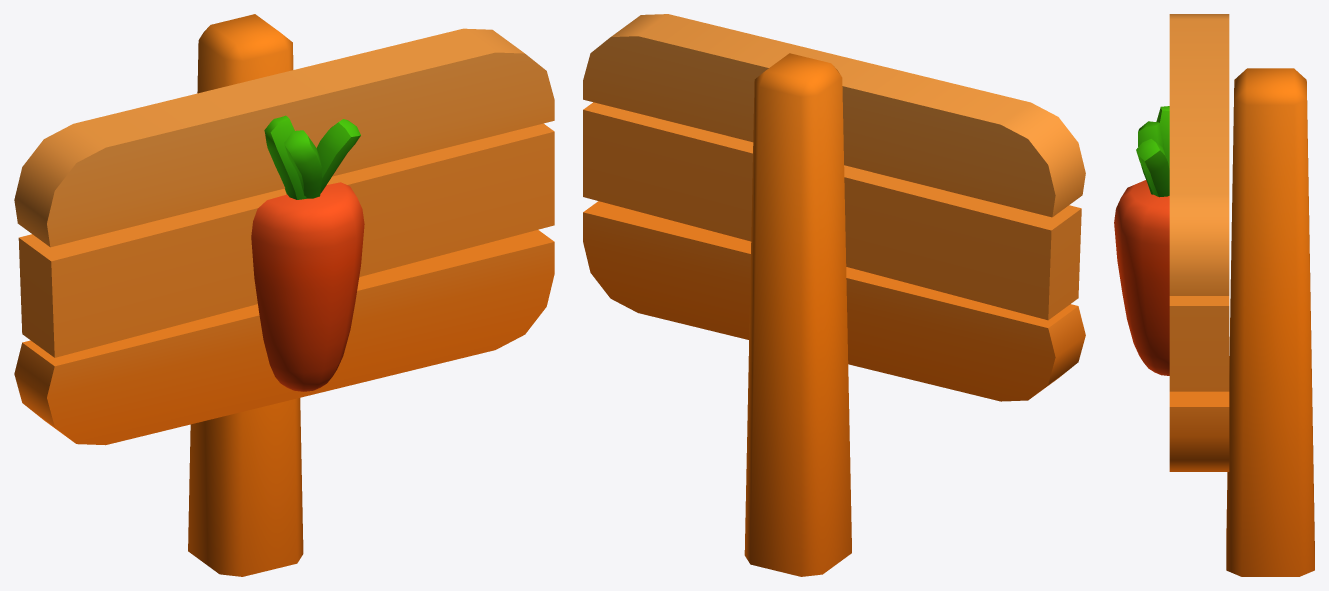
File: Farm_Crop_Sign_Carrot_01.glb
3 views of the same model, side by side, from view 1: azimuth 30°, elevation 25°; view 2: azimuth 150°, elevation 25°; view 3: azimuth 270°, elevation 25° (orthographic). The views are drawn at different scales.
Visible parts, largest first — view 1: Farm_Crop_Sign_Carrot_01; view 2: Farm_Crop_Sign_Carrot_01; view 3: Farm_Crop_Sign_Carrot_01.
Boxes of the visible parts, x1,y1,x2,y2 form: Farm_Crop_Sign_Carrot_01: [14, 14, 554, 576]; Farm_Crop_Sign_Carrot_01: [583, 14, 1085, 576]; Farm_Crop_Sign_Carrot_01: [1114, 14, 1314, 576].
Size of the model in its own units: 0.9011 by 0.888 by 0.3369.
1 material, 1 textured.
